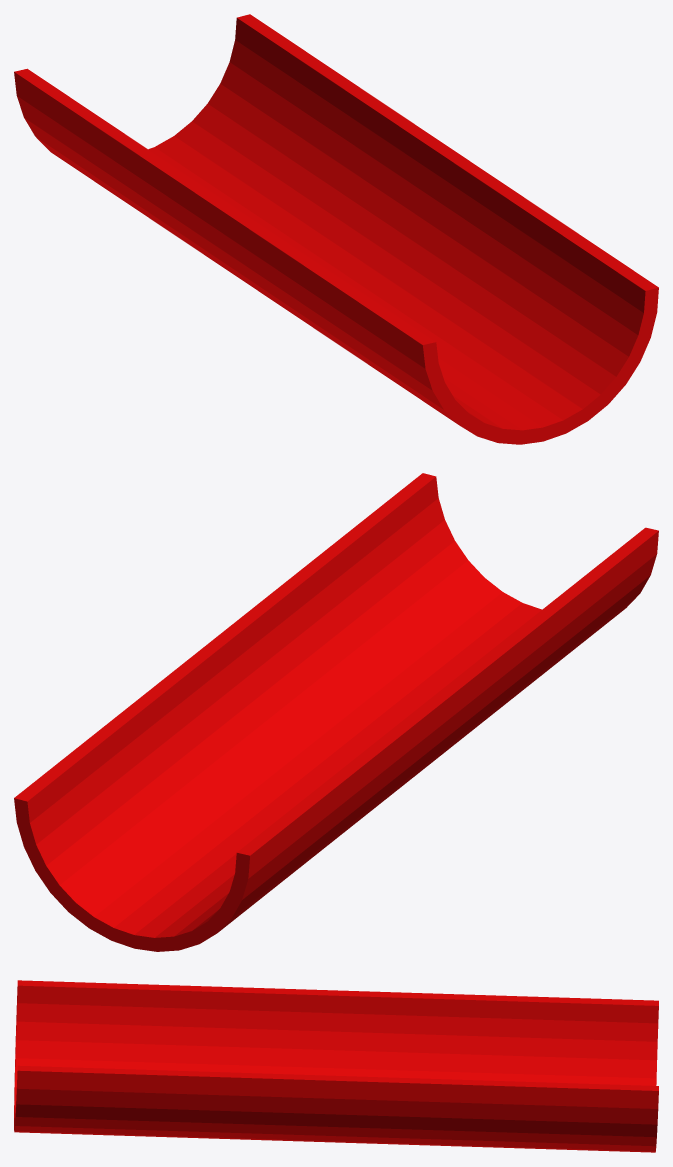
The model's file is tobogan.glb.
3 views of the same model, one above another, from view 1: azimuth 30°, elevation 25°; view 2: azimuth 150°, elevation 25°; view 3: azimuth 270°, elevation 25° (orthographic). The views are drawn at different scales.
Parts seen in each view (by area): view 1: Cylinder; view 2: Cylinder; view 3: Cylinder.
Boxes of the visible parts, <box> form: Cylinder: <box>14,14,658,444</box>; Cylinder: <box>14,473,658,951</box>; Cylinder: <box>14,980,658,1152</box>.
Size of the model in its own units: 4 by 2.42 by 12.06.
